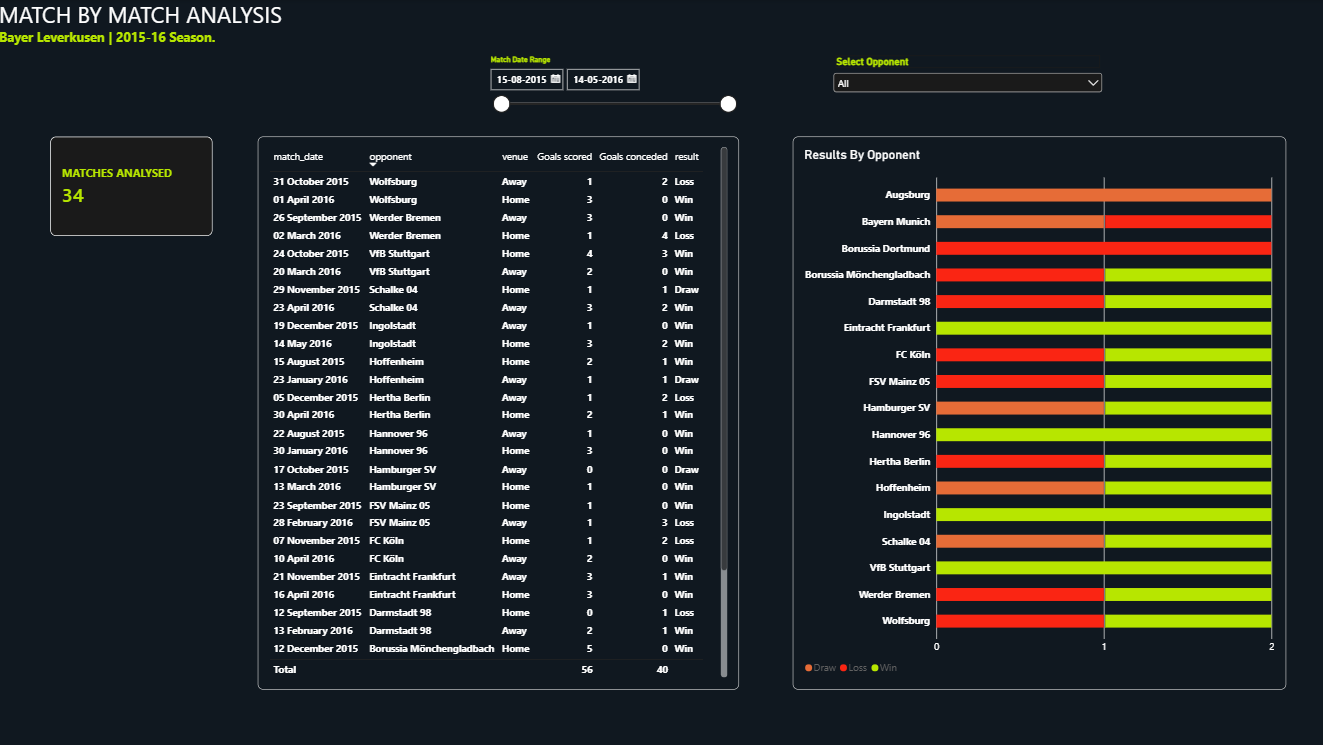

The page's visual inventory and layout, read from the dashboard file:
{"tool":"powerbi","page":{"name":"Match By Match Analysis","canvas":[1920,1080],"ordinal":2},"visuals":[{"type":"tableEx","fields":{"Values":["public bayer_leverkusen_match_analysis.match_date","public bayer_leverkusen_match_analysis.opponent","public bayer_leverkusen_match_analysis.venue","Sum(public bayer_leverkusen_match_analysis.goals_scored)","Sum(public bayer_leverkusen_match_analysis.goals_conceded)","public bayer_leverkusen_match_analysis.result"]},"box":[374.4,199.1,696.9,800.7],"z":0},{"type":"slicer","fields":{"Values":["public bayer_leverkusen_match_analysis.match_date"]},"box":[703.3,82.2,367.9,93.1],"z":2000},{"type":"slicer","fields":{"Values":["public bayer_leverkusen_match_analysis.opponent"]},"box":[1203.3,82.2,398.2,82.2],"z":2001},{"type":"barChart","title":"Results By Opponent","fields":{"Category":["public bayer_leverkusen_match_analysis.opponent"],"Series":["public bayer_leverkusen_match_analysis.result"],"Y":["CountNonNull(public bayer_leverkusen_match_analysis.result)"]},"box":[1149.2,199.1,714.2,800.7],"z":2002},{"type":"cardVisual","fields":{"Data":["CountNonNull(public bayer_leverkusen_match_analysis.match_date)"]},"box":[73.6,199.1,235.9,145],"z":2003},{"type":"textbox","box":[0,0,521.6,123.4],"z":2004}]}

Visuals, with their boxes in screenshot pixels (x1, y1, x2, y2), scaled from the page's 1920x1080 canvas onto the 1323x745 screenshot:
tableEx - public bayer_leverkusen_match_analysis.match_date x public bayer_leverkusen_match_analysis.opponent: bbox=[258, 137, 738, 690]
slicer - public bayer_leverkusen_match_analysis.match_date: bbox=[485, 57, 738, 121]
slicer - public bayer_leverkusen_match_analysis.opponent: bbox=[829, 57, 1104, 113]
"Results By Opponent" barChart: bbox=[792, 137, 1284, 690]
cardVisual - CountNonNull(public bayer_leverkusen_match_analysis.match_date): bbox=[51, 137, 213, 237]
textbox: bbox=[0, 0, 359, 85]
